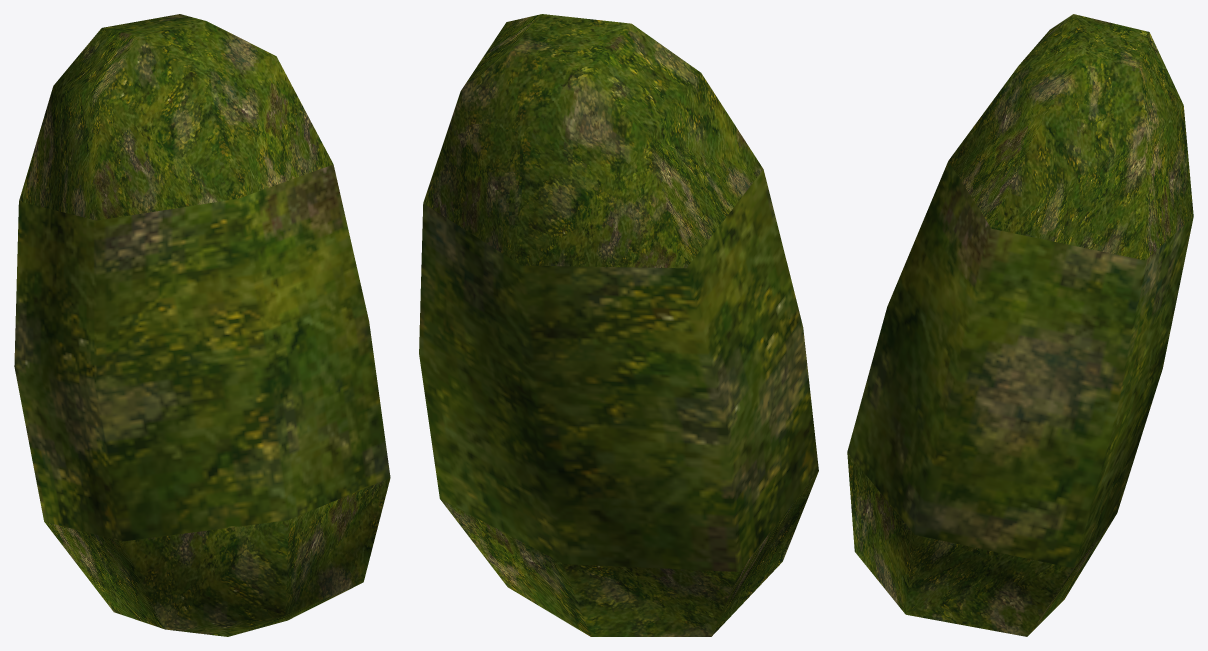
The model's file is OVERHILL_A_01_ROCK_BRIDGE03.obj.
3 renders of one model, left to right at view 1: azimuth 30°, elevation 25°; view 2: azimuth 150°, elevation 25°; view 3: azimuth 270°, elevation 25°, orthographic. The views are drawn at different scales.
Visible parts, largest first — view 1: Rock_bridge03; view 2: Rock_bridge03; view 3: Rock_bridge03.
Part boxes in pixels (box(x1,y1,x2,y2)): Rock_bridge03: box(14, 14, 390, 636); Rock_bridge03: box(419, 14, 818, 636); Rock_bridge03: box(847, 14, 1193, 636).
Bounding box in the file's own units: 136 × 264 × 144.
